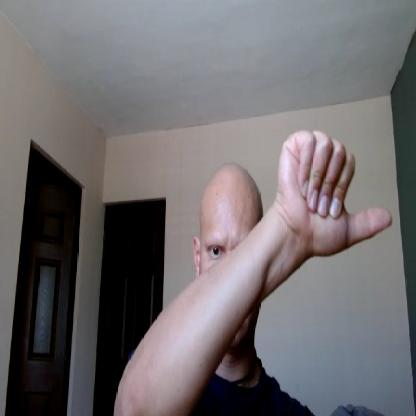A: (278, 128, 393, 260)
